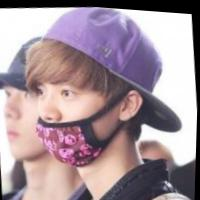NONE: (2, 85, 62, 165)
WRONG: (33, 73, 117, 168)
